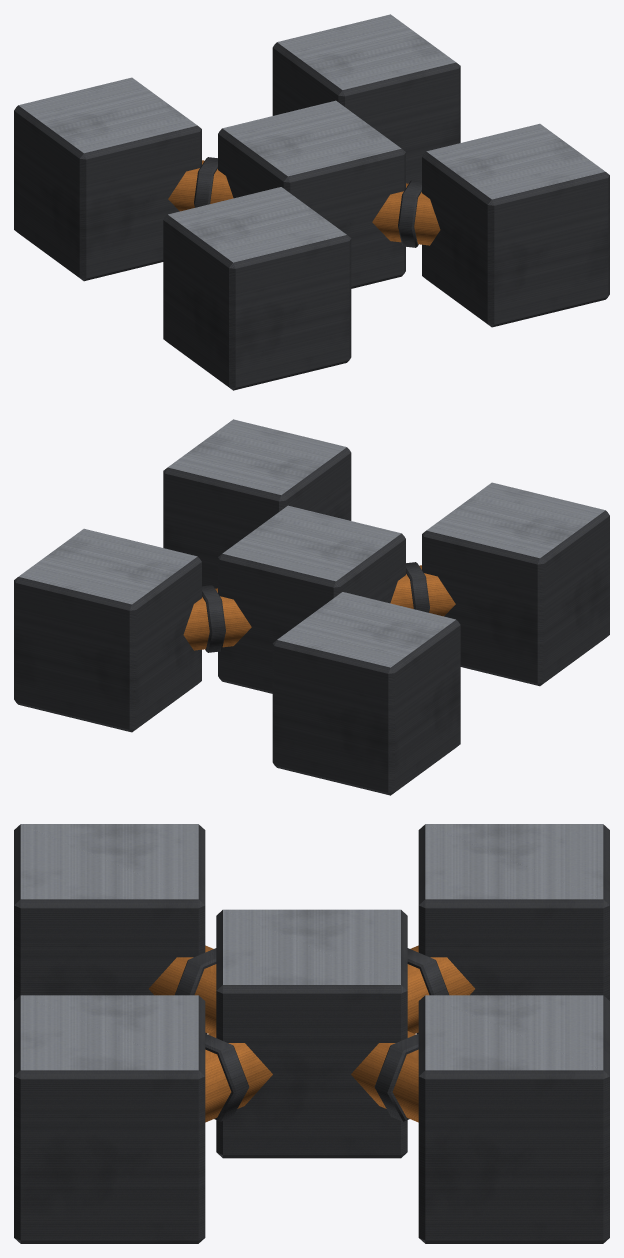
Rendered from R4C_STRUT_CROSS_LOD1.glb.
3 views of the same model, one above another, from view 1: azimuth 30°, elevation 25°; view 2: azimuth 150°, elevation 25°; view 3: azimuth 270°, elevation 25° (orthographic). The views are drawn at different scales.
Parts seen in each view (by area): view 1: R4C_STRUT_CROSS_LOD1; view 2: R4C_STRUT_CROSS_LOD1; view 3: R4C_STRUT_CROSS_LOD1.
Boxes of the visible parts, box(x1,y1,x2,y2) form: R4C_STRUT_CROSS_LOD1: box(14, 14, 609, 390); R4C_STRUT_CROSS_LOD1: box(14, 419, 609, 795); R4C_STRUT_CROSS_LOD1: box(14, 824, 609, 1243).
Bounding box in the file's own units: 1.62 × 0.52 × 1.62.
Materials: 3 (3 with a texture image).
